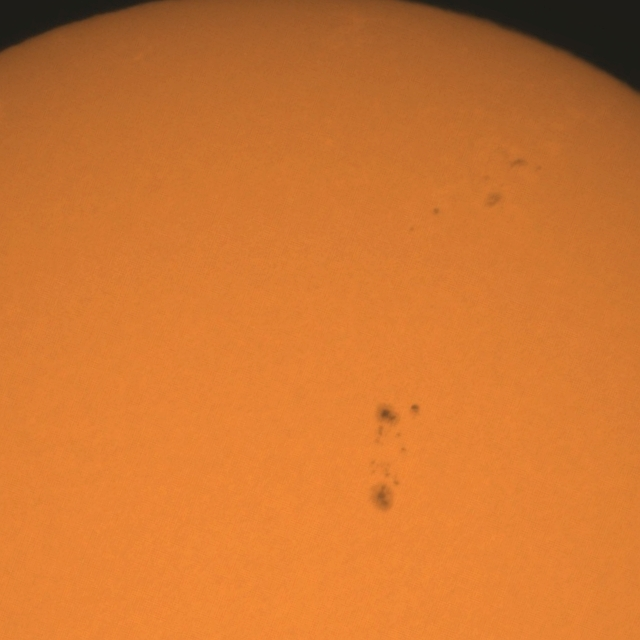sunspot: (372, 400, 425, 436), (370, 455, 403, 492), (374, 406, 402, 448), (373, 470, 400, 512), (508, 157, 544, 174), (409, 402, 421, 416), (432, 206, 441, 217)
